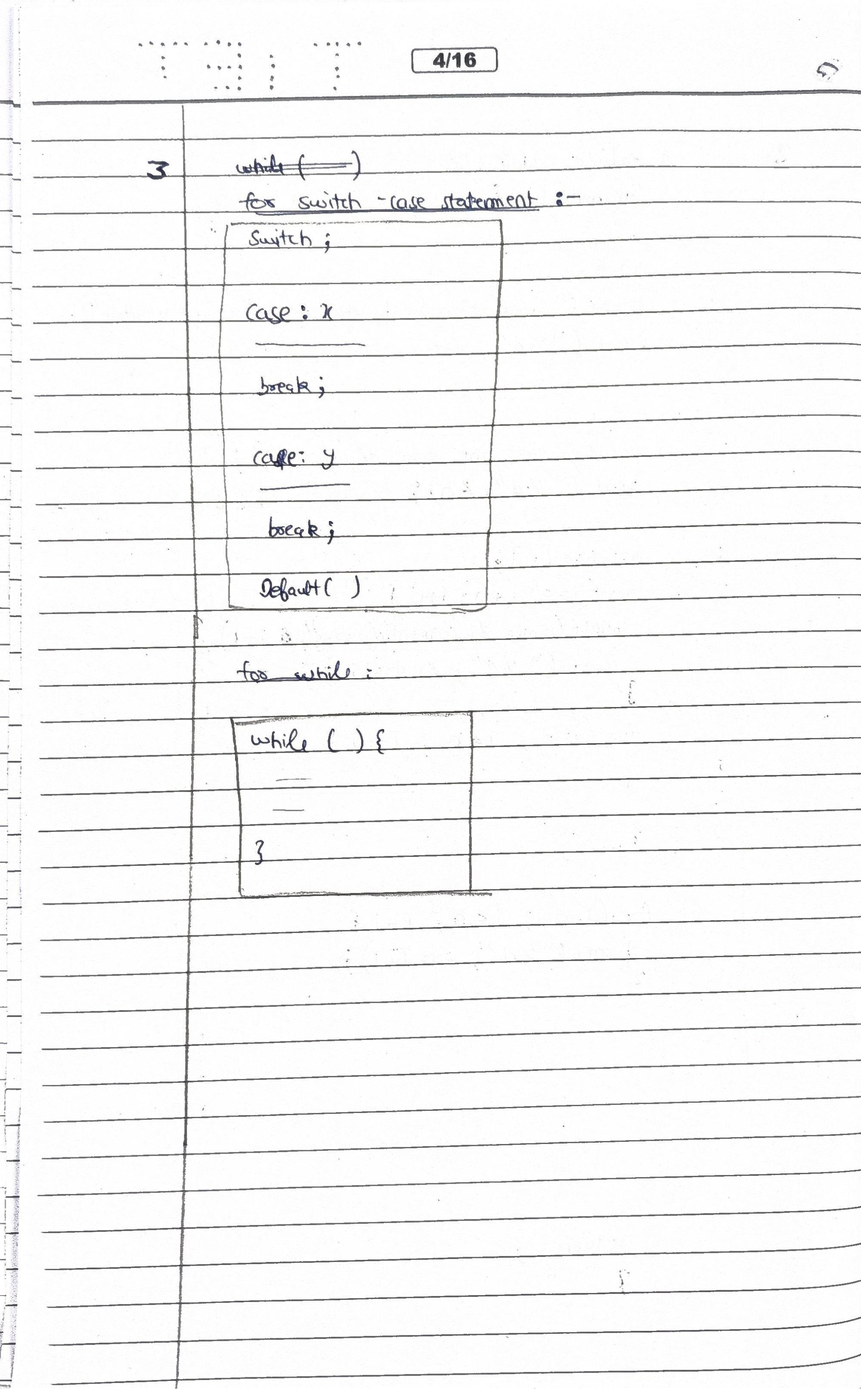cuttings: (234, 149, 363, 182)
